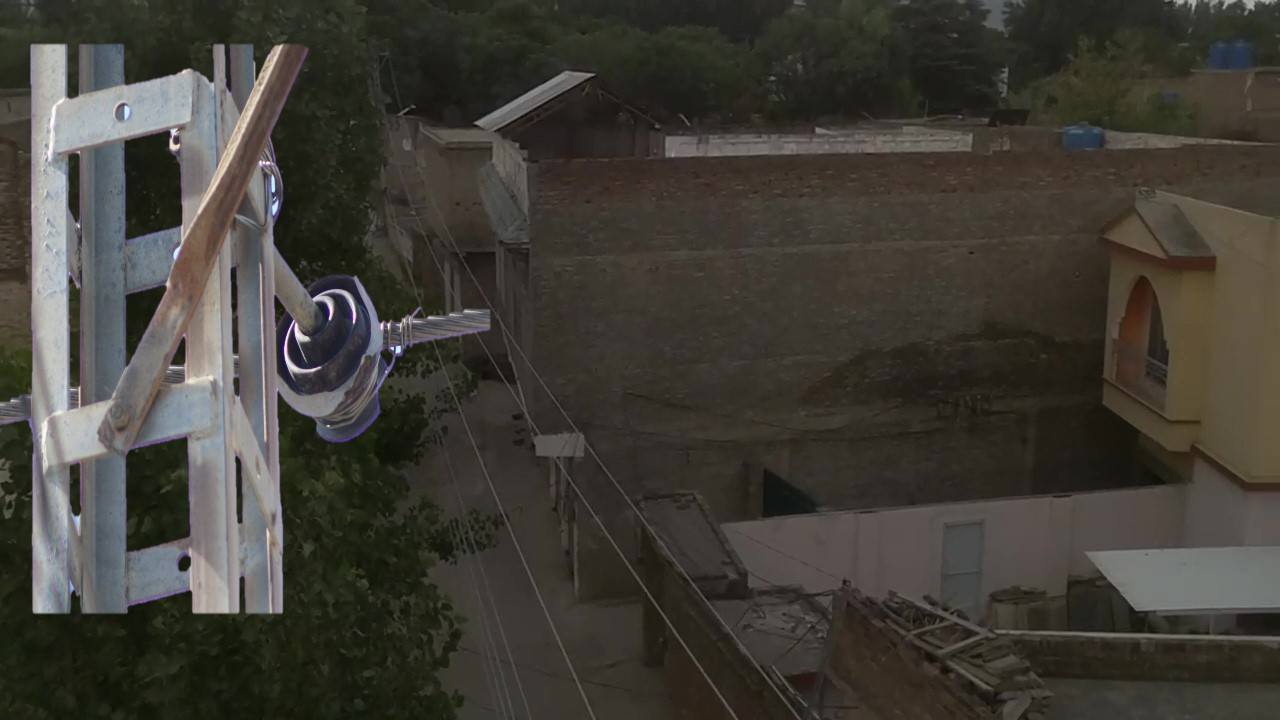defect_pin: (275, 266, 413, 457)
